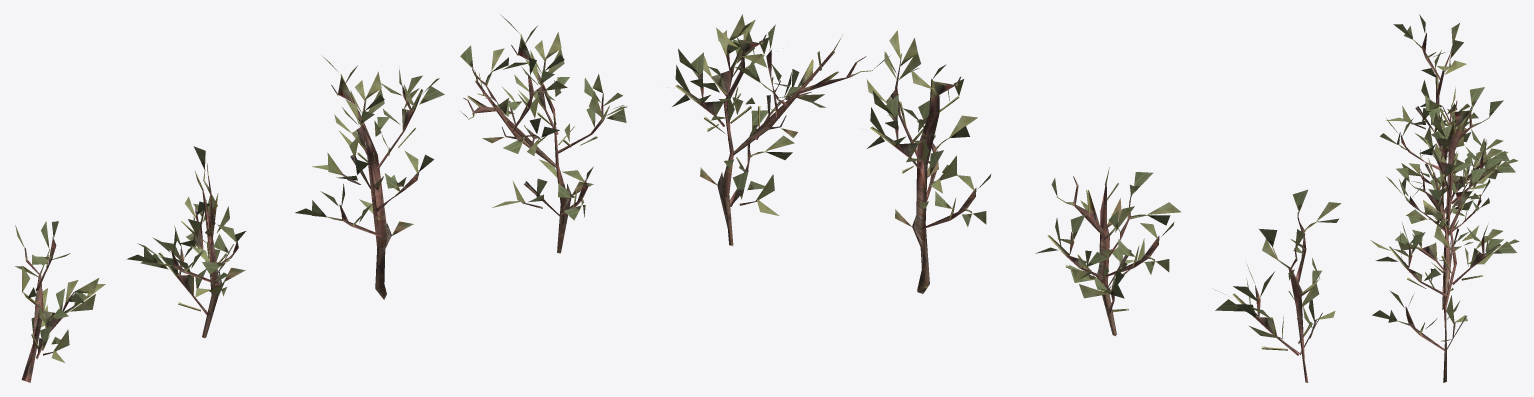
File: veg_veg_scrub_shrub_04.glb
3 renders of one model, left to right at view 1: azimuth 30°, elevation 25°; view 2: azimuth 150°, elevation 25°; view 3: azimuth 270°, elevation 25°, orthographic. The views are drawn at different scales.
Parts seen in each view (by area): view 1: veg_scrub_shrub_04; view 2: veg_scrub_shrub_04; view 3: veg_scrub_shrub_04.
Boxes of the visible parts, bbox=[...] form: veg_scrub_shrub_04: bbox=[15, 14, 627, 382]; veg_scrub_shrub_04: bbox=[672, 14, 1341, 382]; veg_scrub_shrub_04: bbox=[1370, 14, 1519, 382].
Size of the model in its own units: 0.7948 by 0.3038 by 0.1999.
1 material, 1 textured.
